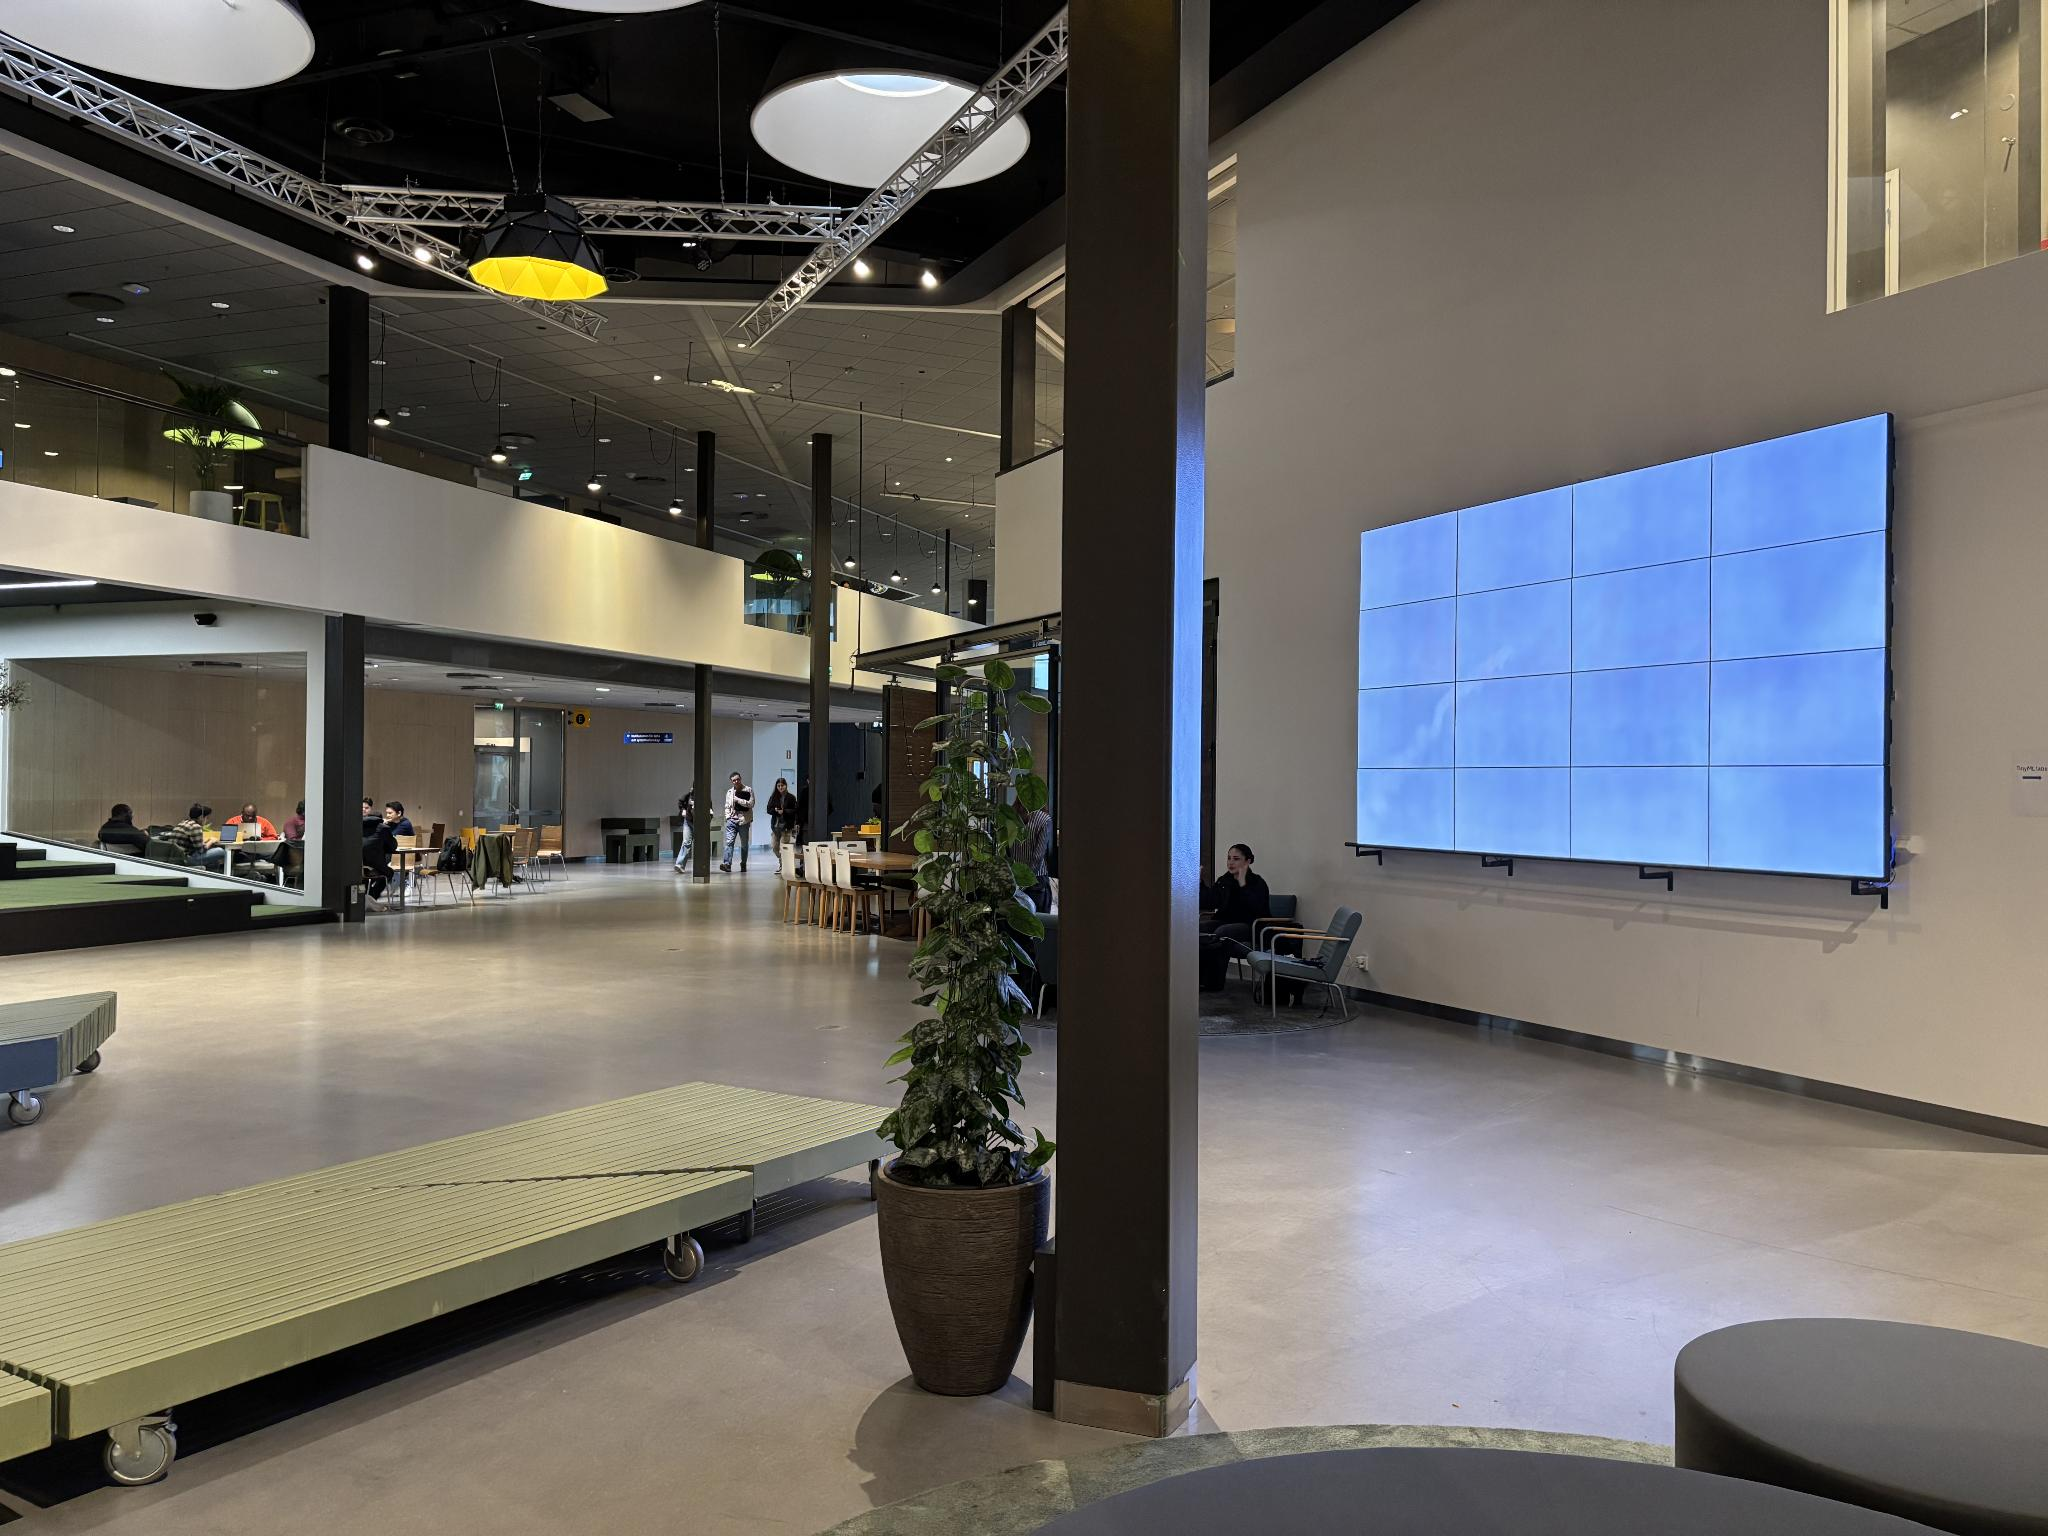person: (1225, 843, 1257, 934), (727, 771, 753, 870), (173, 803, 212, 847), (770, 779, 795, 845), (109, 803, 133, 845), (385, 802, 413, 836), (237, 802, 261, 823), (363, 796, 380, 817)
